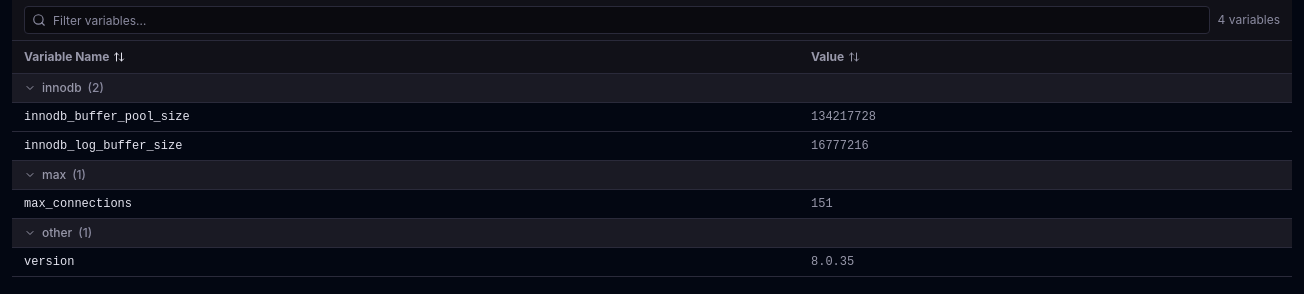
ServerVariablesTab filter and keyboard (#824) › collapses a group from a button with aria-expanded
Expected: the button "innodb_buffer_pool_size" is shown, [24,109,206,125]
Click the button "innodb (2)": [62, 88] box [12,74,1292,102]
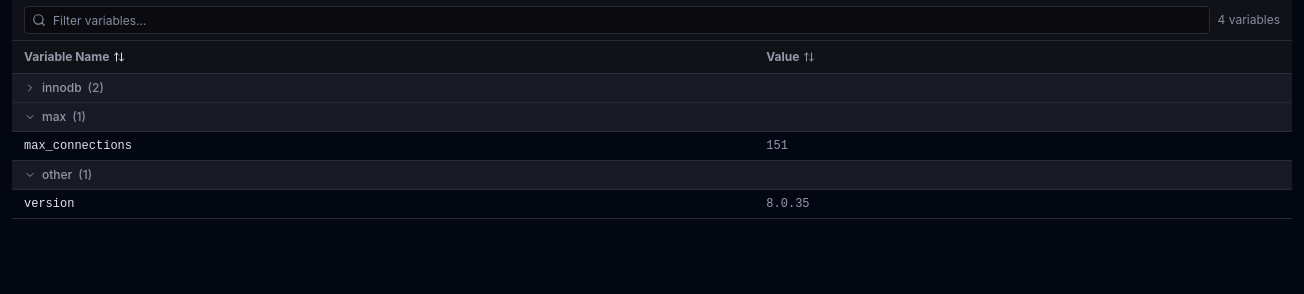
Result: the button "innodb_buffer_pool_size" is gone
